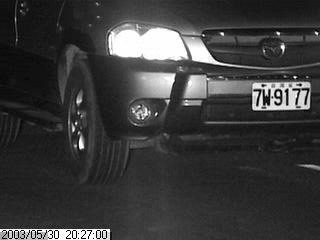plate: (250, 79, 312, 112)
